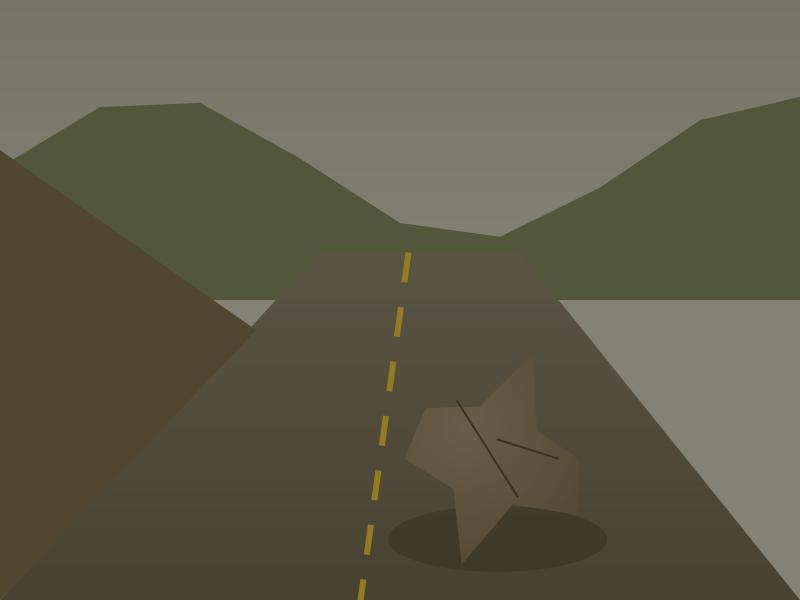ROAD_OBSTACLE: (398, 363, 597, 554)
